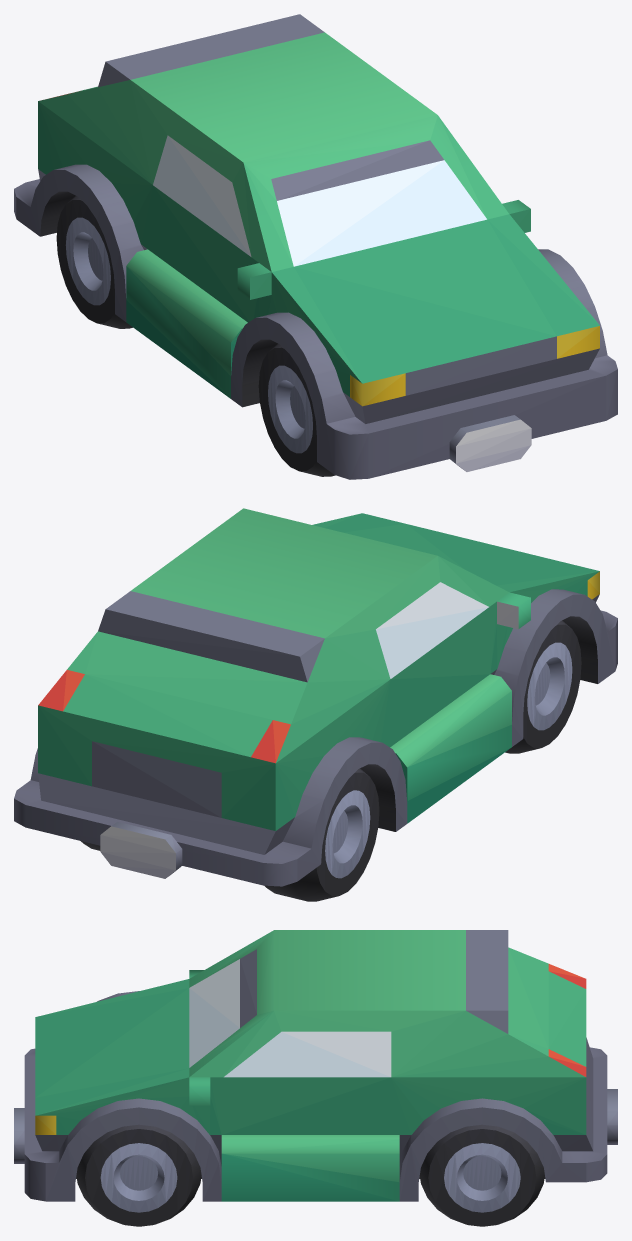
The model's file is hatchback-sports-b147d5e3ef.glb.
3 renders of one model, top to bottom at view 1: azimuth 30°, elevation 25°; view 2: azimuth 150°, elevation 25°; view 3: azimuth 270°, elevation 25°, orthographic. The views are drawn at different scales.
Parts seen in each view (by area): view 1: body, WheelRearR, WheelFrontR; view 2: body, WheelRearR, WheelFrontR; view 3: body, WheelFrontL, WheelRearL.
Boxes of the visible parts, x1,y1,x2,y2 form: body: [14, 14, 617, 479]; WheelRearR: [56, 196, 132, 328]; WheelFrontR: [258, 343, 335, 476]; body: [14, 508, 617, 886]; WheelRearR: [264, 768, 379, 901]; WheelFrontR: [505, 620, 581, 753]; body: [14, 930, 617, 1201]; WheelFrontL: [76, 1124, 201, 1226]; WheelRearL: [419, 1124, 544, 1226].
Size of the model in its own units: 1.85 by 1.56 by 4.05.
